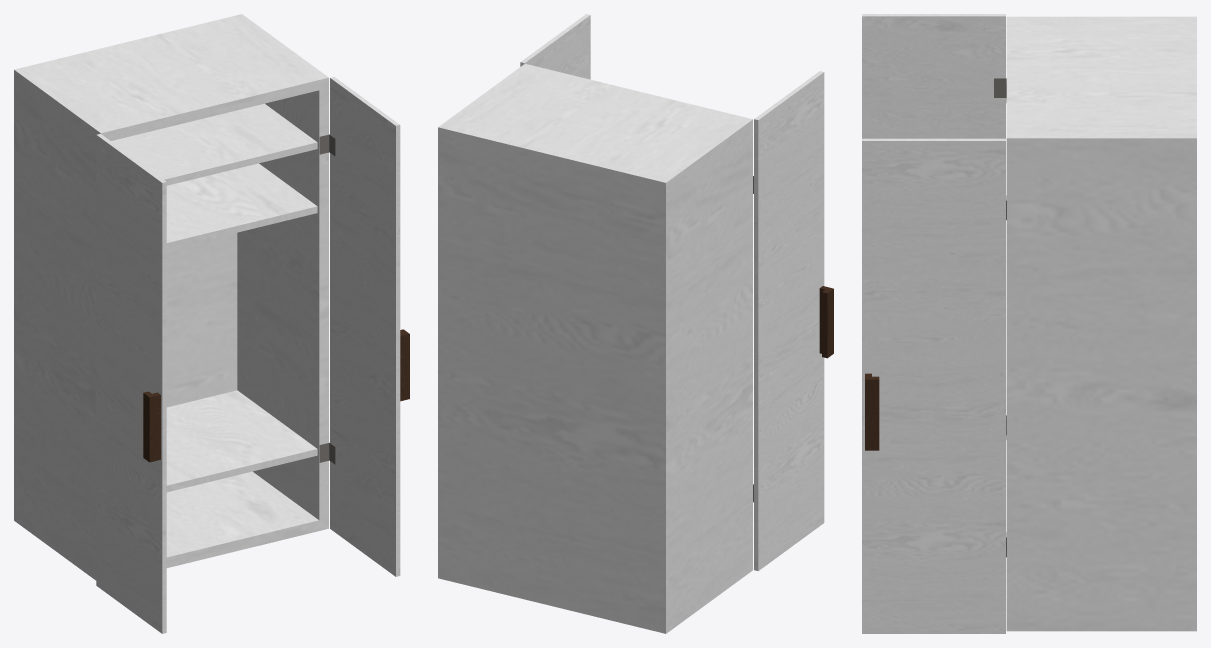
The model's file is Closet24.fbx.
The picture shows the model from 3 angles, left to right: view 1: azimuth 30°, elevation 25°; view 2: azimuth 150°, elevation 25°; view 3: azimuth 270°, elevation 25°; orthographic projection. The views are drawn at different scales.
Visible parts, largest first — view 1: Closet24, Closet24DoorR, Closet24DoorL; view 2: Closet24, Closet24DoorL, Closet24DoorR; view 3: Closet24, Closet24DoorR, Closet24DoorL.
Part boxes in pixels (<box>): Closet24: <box>14,14,329,580</box>; Closet24DoorR: <box>329,76,409,576</box>; Closet24DoorL: <box>96,133,166,633</box>; Closet24: <box>438,63,753,633</box>; Closet24DoorL: <box>753,71,833,571</box>; Closet24DoorR: <box>520,14,590,79</box>; Closet24: <box>1006,16,1196,631</box>; Closet24DoorR: <box>862,138,1006,633</box>; Closet24DoorL: <box>862,14,1006,434</box>.
Bounding box in the file's own units: 154 × 254 × 157.
